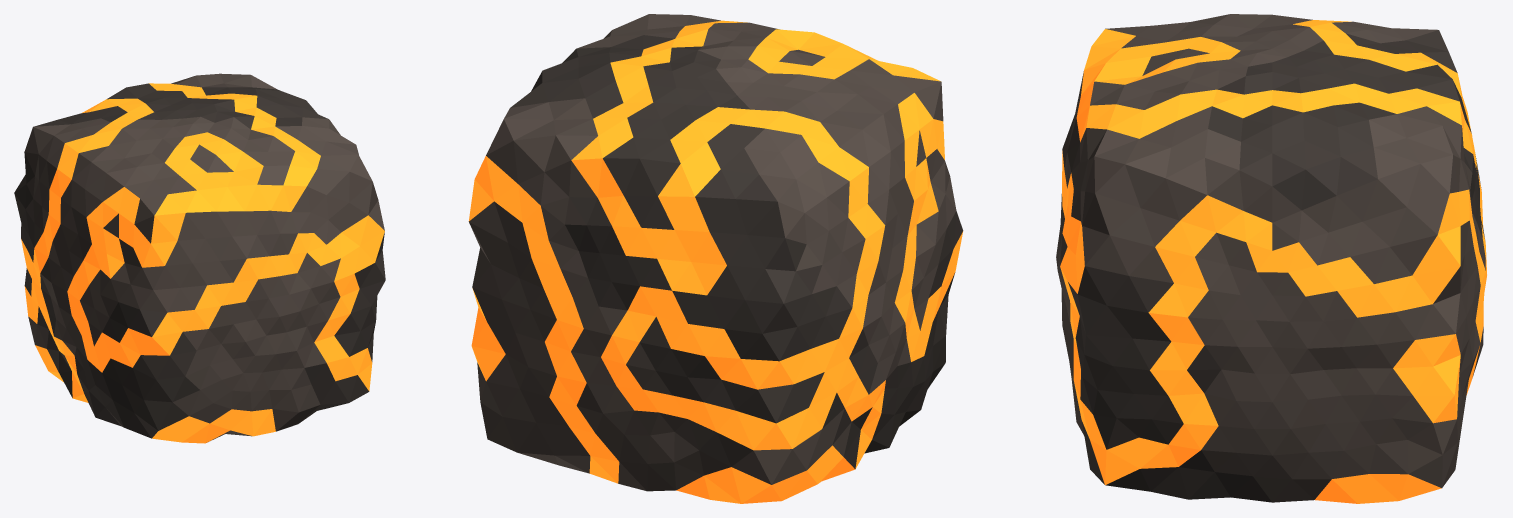
Rendered from meteor.glb.
3 views of the same model, side by side, from view 1: azimuth 30°, elevation 25°; view 2: azimuth 150°, elevation 25°; view 3: azimuth 270°, elevation 25° (orthographic). The views are drawn at different scales.
Visible parts, largest first — view 1: Meteor; view 2: Meteor; view 3: Meteor.
Boxes of the visible parts, x1,y1,x2,y2 form: Meteor: (14,73,385,443); Meteor: (468,14,963,503); Meteor: (1056,14,1486,503).
Bounding box in the file's own units: 1 × 1 × 1.
